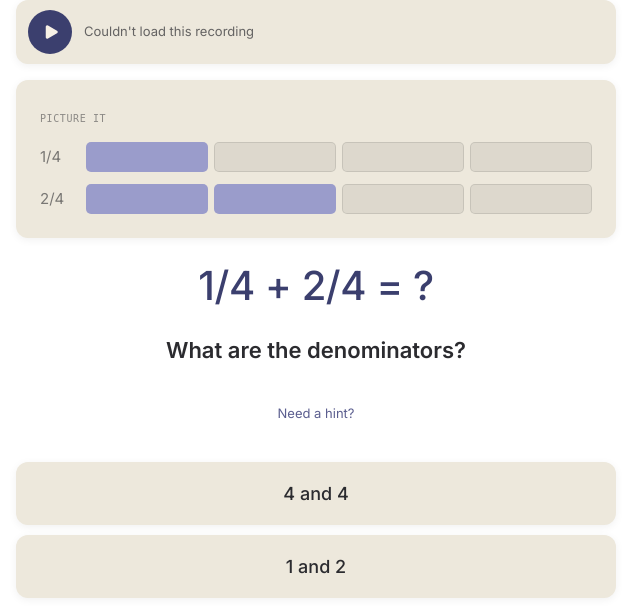
Test case: the narration layer › keeps Play pressable when the recording did not load, and says so when pressed (D211)
Expected: the text "The sound didn't load. Try again in a moment." is not shown
What coordinates should you click on to do the following:
click the button named "Play narration"
I would click on:
 (50, 32)
Its box is [28, 10, 72, 54].
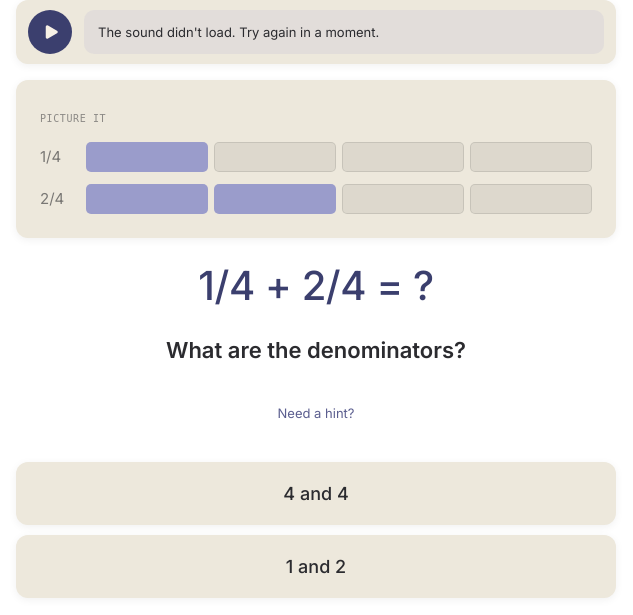
Now the text "The sound didn't load. Try again in a moment." is shown, box [84, 10, 604, 54]
